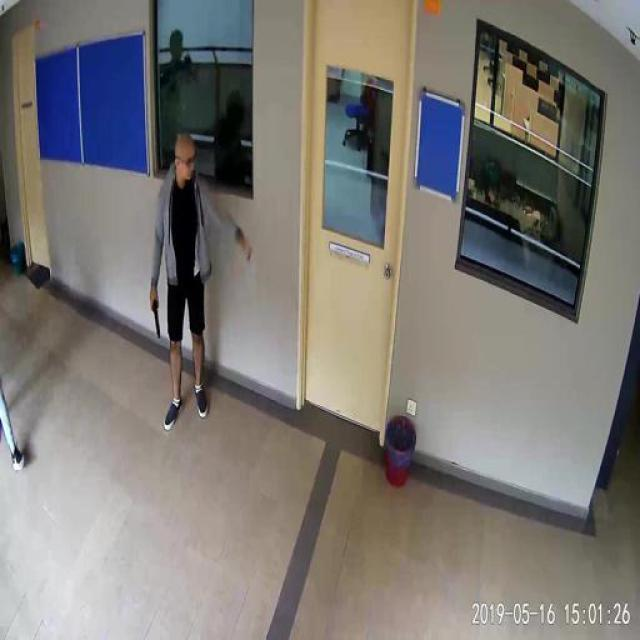weapon: (147, 289, 163, 341)
